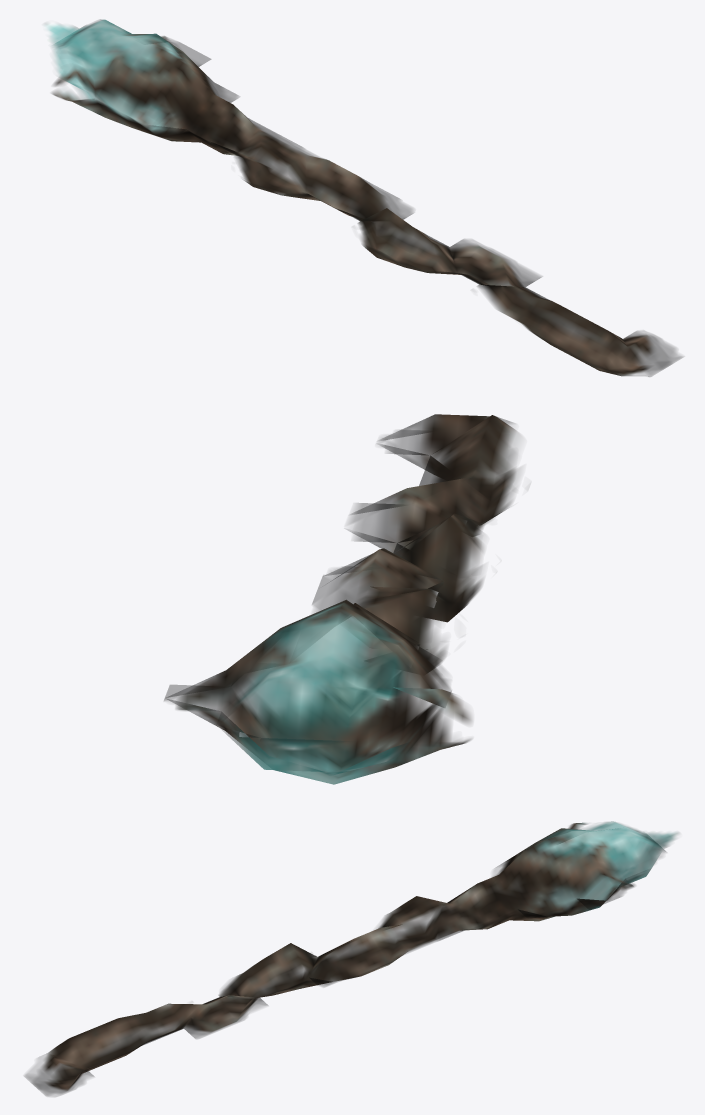
Rendered from drop_staff.glb.
The picture shows the model from 3 angles, top to bottom: view 1: azimuth 30°, elevation 25°; view 2: azimuth 150°, elevation 25°; view 3: azimuth 270°, elevation 25°; orthographic projection. The views are drawn at different scales.
Visible parts, largest first — view 1: drop_staff; view 2: drop_staff; view 3: drop_staff.
Boxes of the visible parts, x1,y1,x2,y2 form: drop_staff: (44, 19, 682, 376); drop_staff: (164, 414, 519, 784); drop_staff: (24, 821, 679, 1096).
Bounding box in the file's own units: 0.2942 × 0.137 × 0.5222.
Materials: 1 (1 with a texture image).
